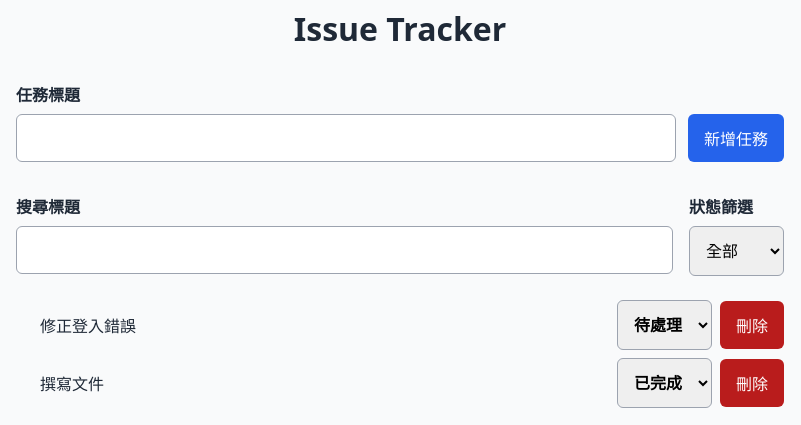
App › 在搜尋和狀態篩選中刪除最後一筆符合任務後顯示篩選空狀態
The width and height of the screenshot is (801, 425).
Type "登入" into the search field labelled "搜尋標題" at (344, 250), box [16, 226, 673, 274]
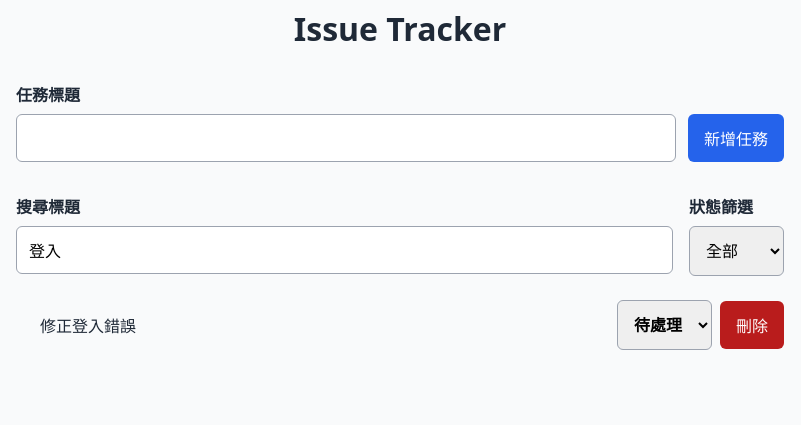
Select "待處理" in the dropdown labelled "狀態篩選" at (736, 251), box [689, 226, 784, 276]
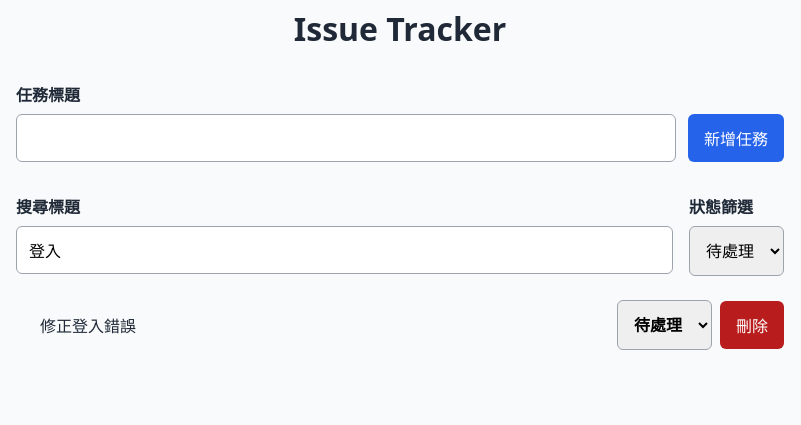
Click the button with aria-label "刪除任務「修正登入錯誤」" at (752, 325), box [720, 301, 784, 349]
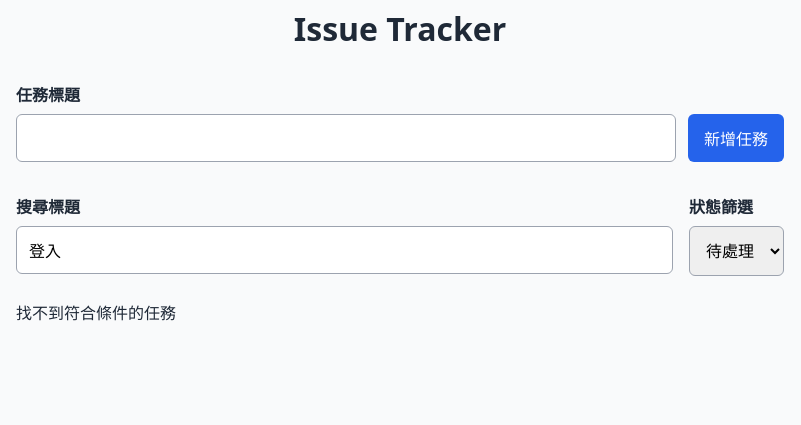
Expected: the list is gone
Expected: the text "找不到符合條件的任務" is shown, [16, 302, 176, 324]
